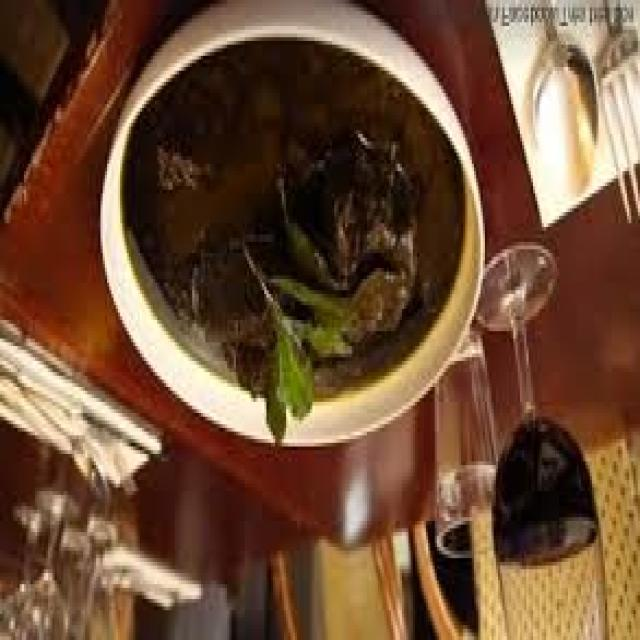Melloukhia: (103, 19, 454, 427)
